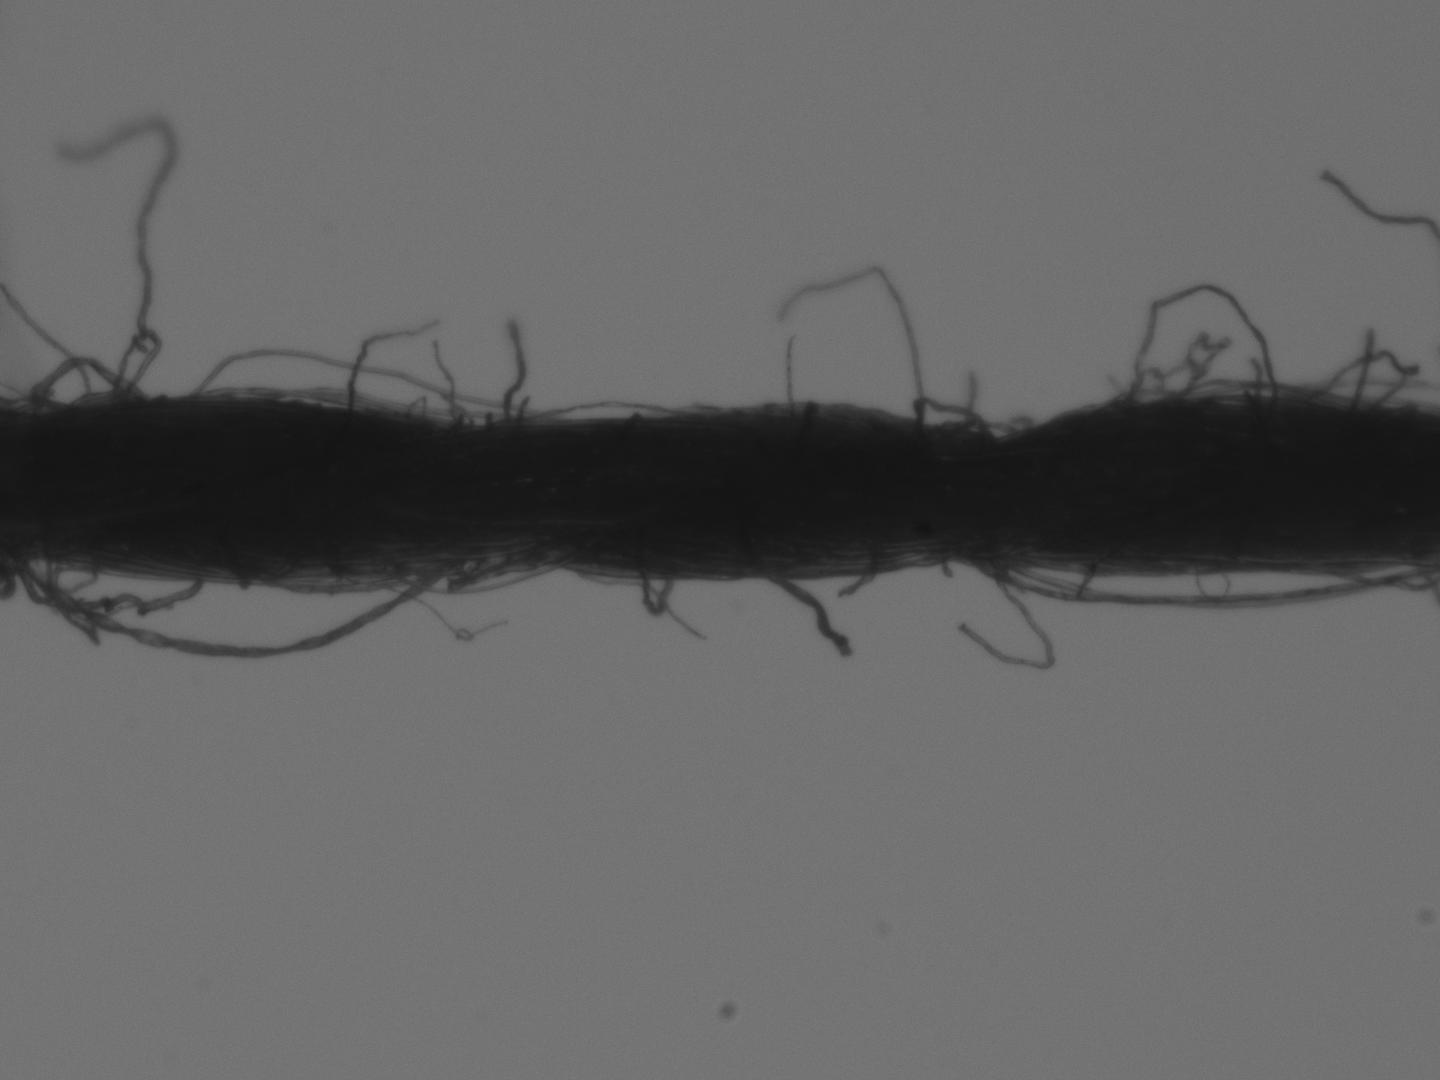loop_fiber: (16, 558, 454, 663), (962, 558, 1429, 611), (1112, 280, 1278, 413), (189, 352, 465, 428), (17, 559, 197, 616), (1164, 376, 1377, 413), (489, 398, 697, 430), (392, 557, 550, 599), (1311, 351, 1422, 405), (27, 357, 143, 406), (18, 555, 91, 607), (910, 397, 993, 441), (107, 332, 158, 402), (1335, 557, 1429, 592), (634, 573, 675, 615)
protruding_fiber: (341, 317, 444, 420), (763, 574, 856, 665), (502, 319, 528, 436)
